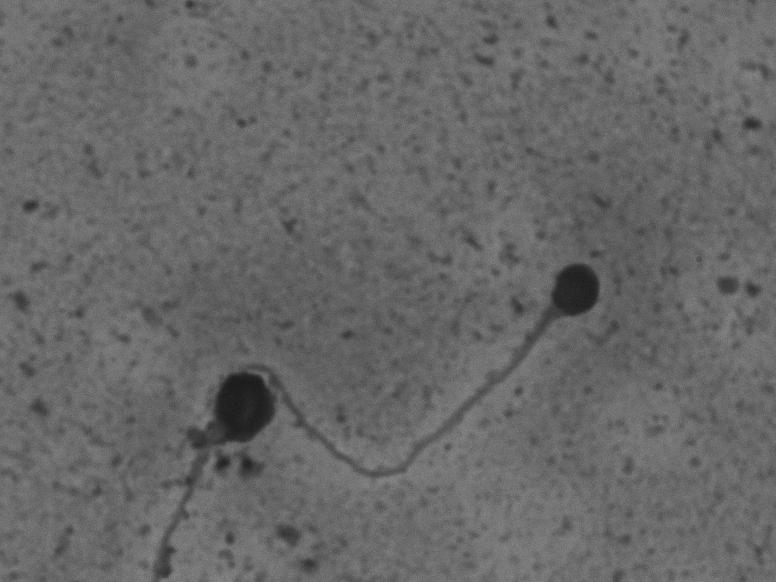Abnormal: (258, 257, 613, 489), (132, 345, 279, 575)
